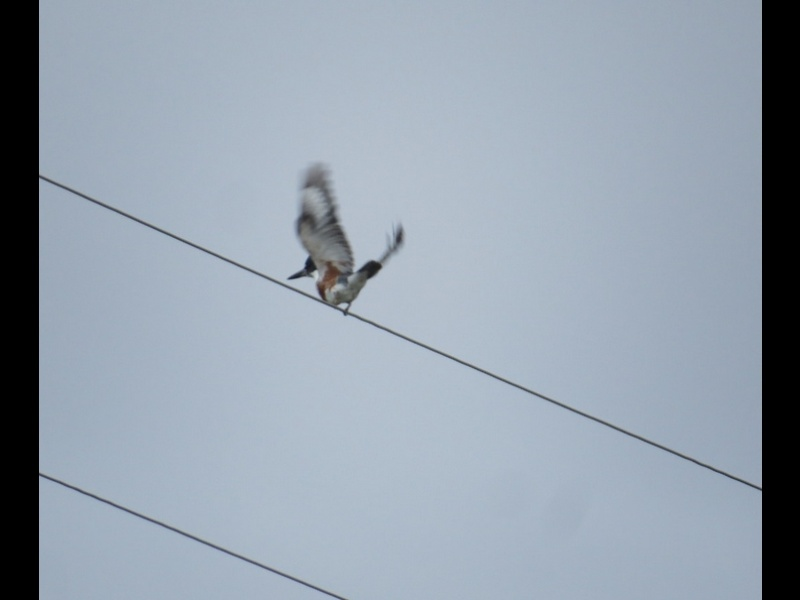kingfisher: (284, 159, 407, 316)
